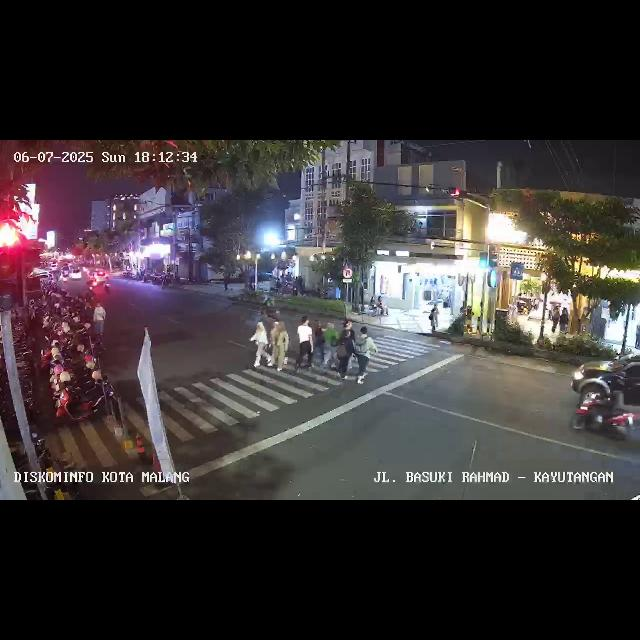car: (572, 352, 640, 408)
motorcycle: (572, 376, 634, 440)
person: (357, 327, 377, 383), (297, 316, 315, 372), (250, 320, 268, 372), (336, 329, 354, 378), (275, 320, 289, 372), (90, 302, 106, 344), (324, 322, 338, 370), (312, 319, 326, 366), (558, 304, 570, 336), (270, 322, 278, 364), (428, 302, 438, 334), (341, 320, 355, 342), (548, 304, 558, 334), (634, 322, 640, 352)
